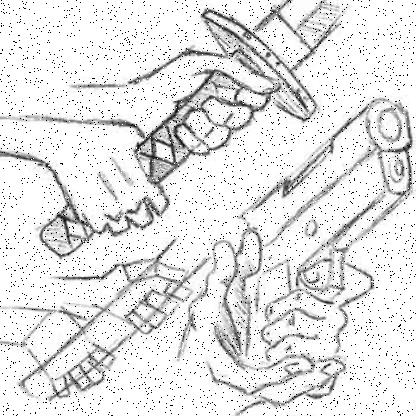pistol: (220, 95, 411, 377)
